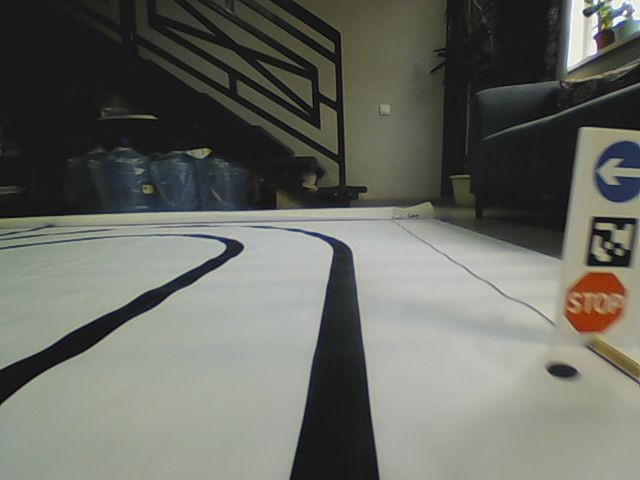Stop: (564, 272, 628, 333)
